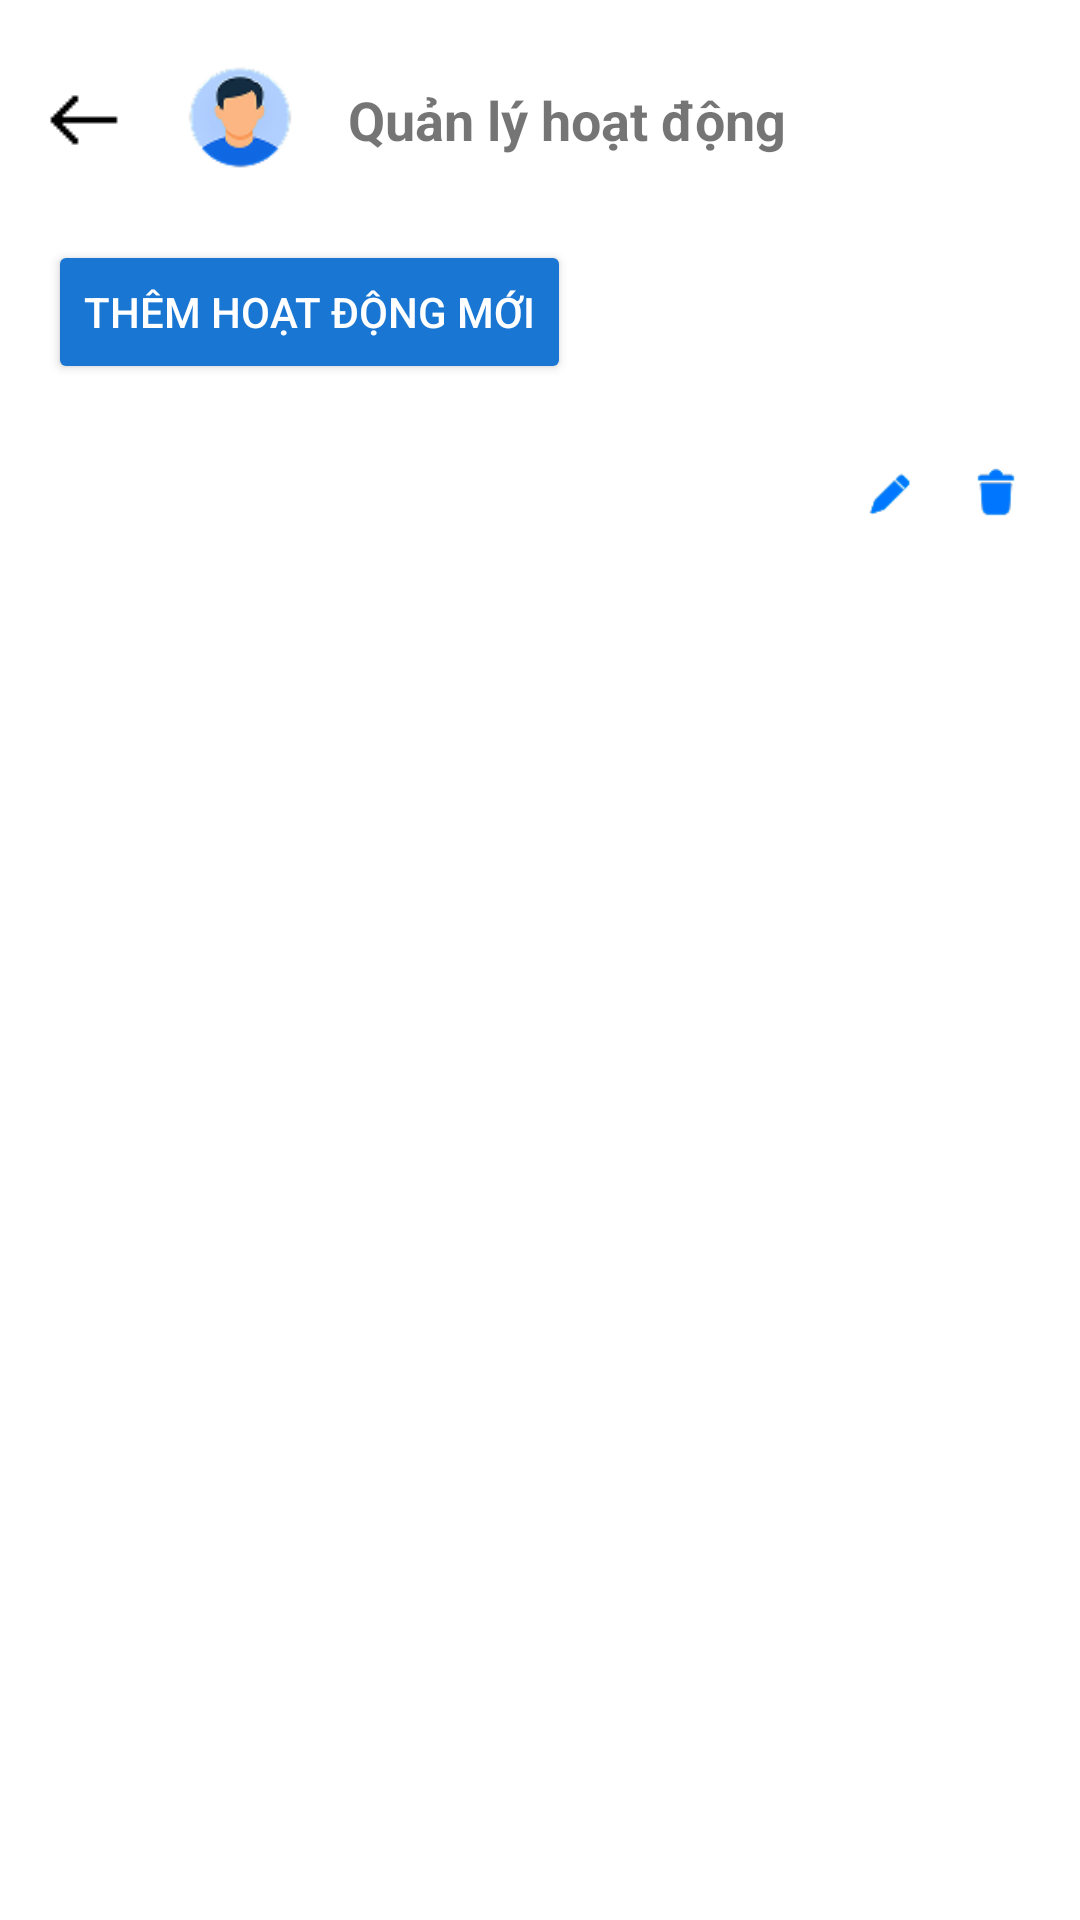

Named icons in this screenshot (1080x1920) and their bounding boxes, (left=x1, top=y1, right=x2, bottom=y2):
back: (left=50, top=95, right=118, bottom=145)
delete: (left=977, top=468, right=1015, bottom=516)
edit: (left=869, top=474, right=910, bottom=514)
